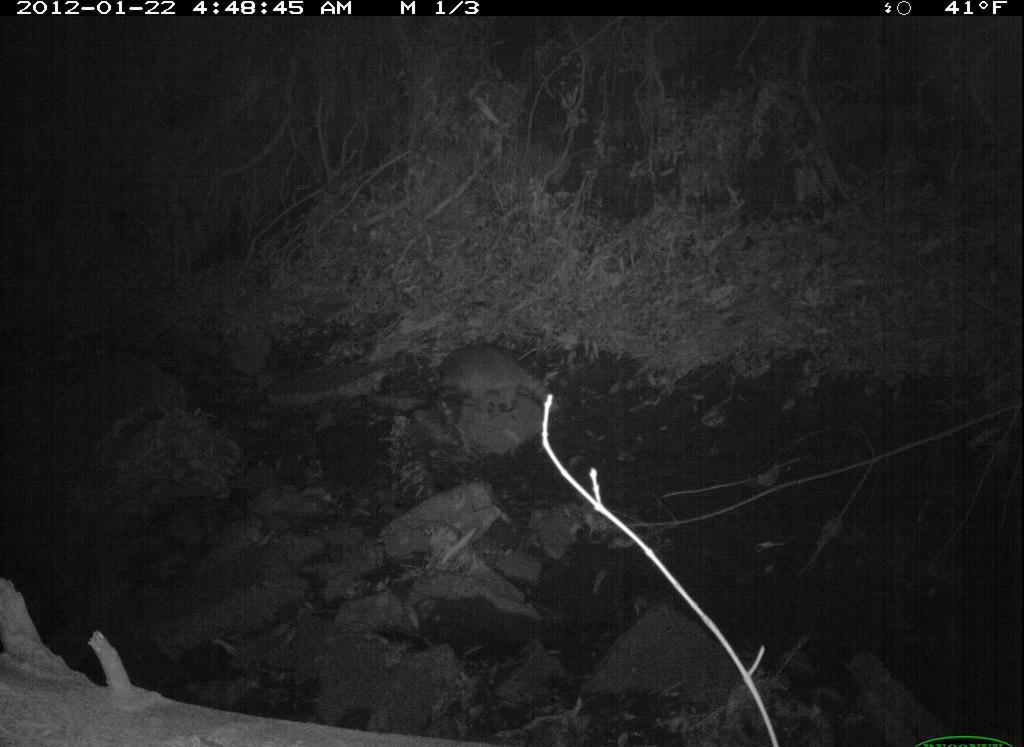raccoon: (417, 337, 565, 423)
